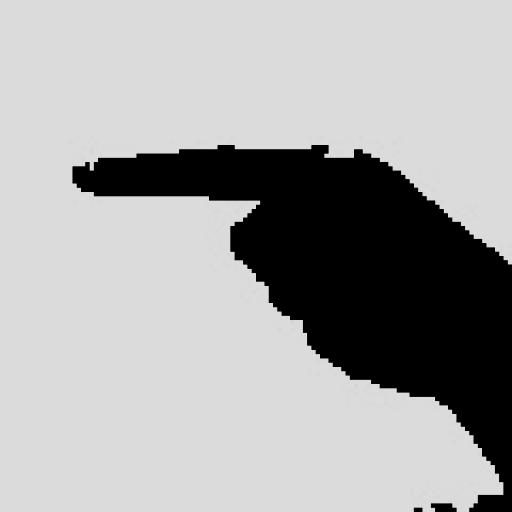index_right: (73, 140, 512, 362)
